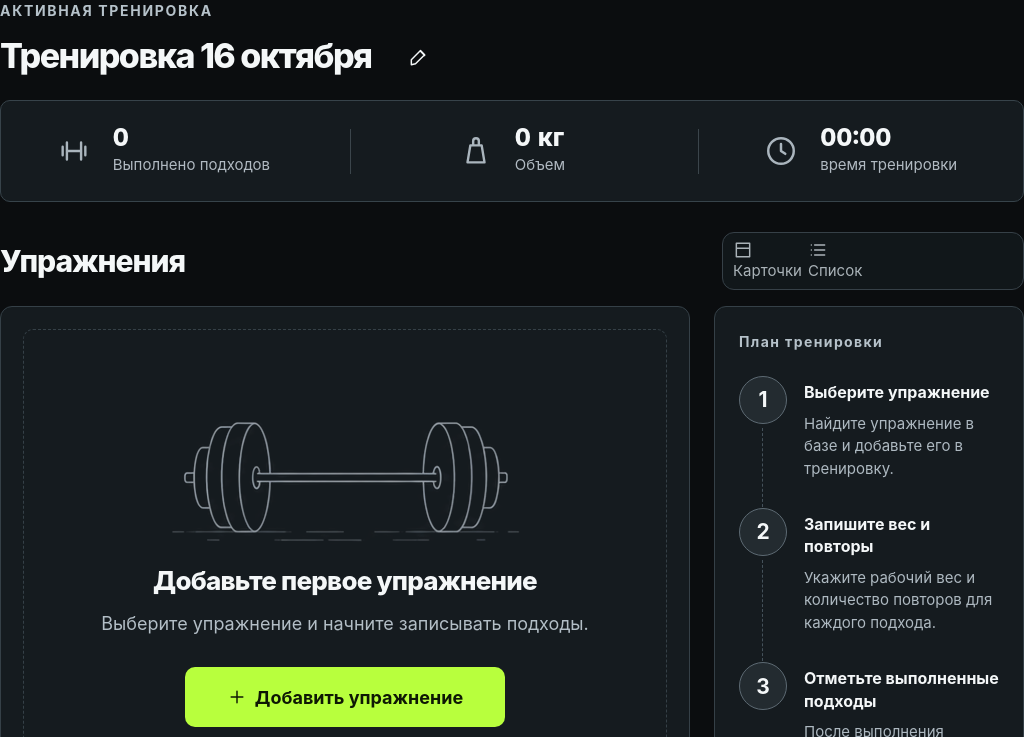
Test: active workout › opens the exercise picker from the empty workout invitation
The width and height of the screenshot is (1024, 737).
Check: the heading "Добавьте первое упражнение" is shown, box [153,565,537,596]
Click the button "Добавить упражнение" at [345, 697], box [185,667,505,727]
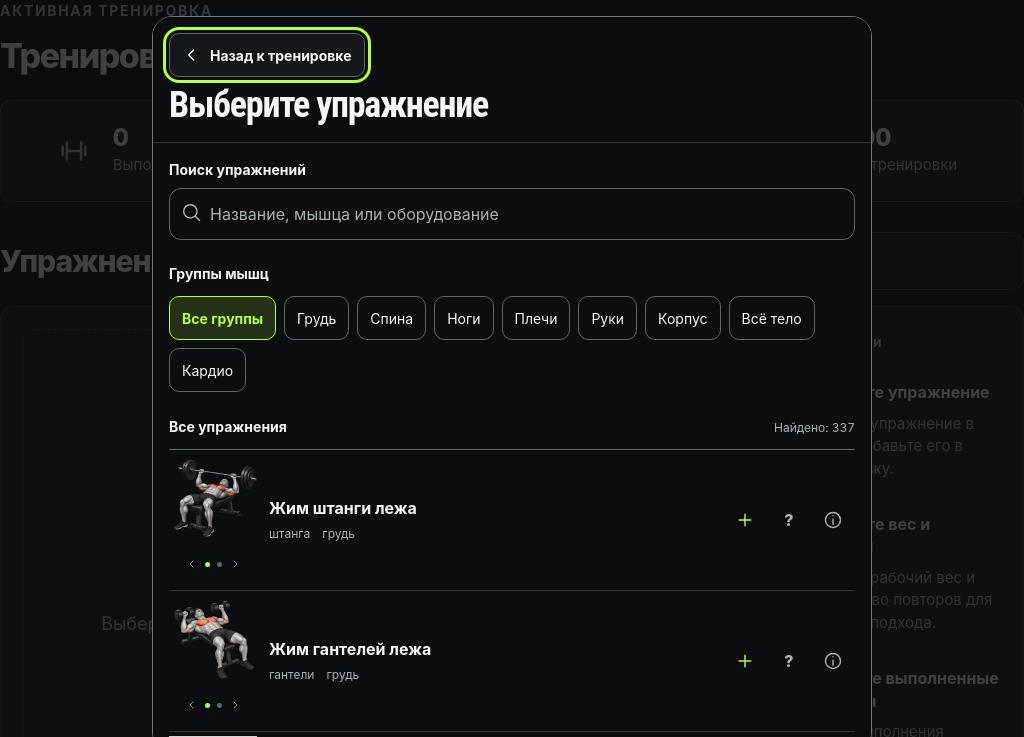
Check: the dialog shows "Выберите упражнение", box [169,84,488,126]
